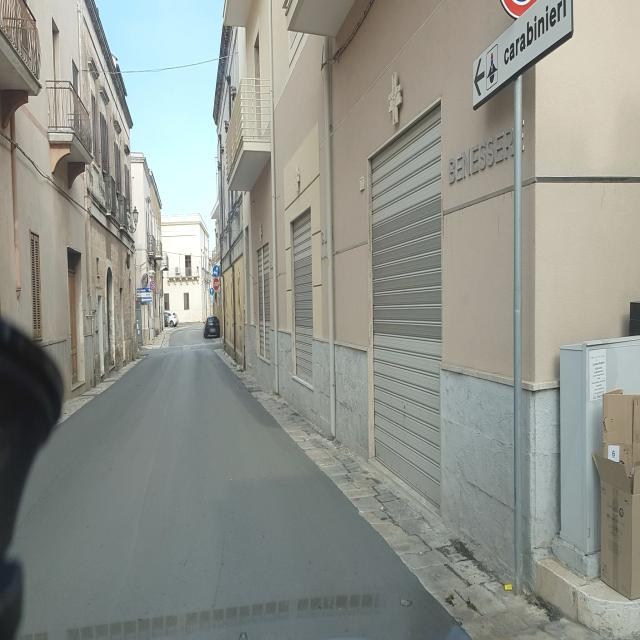car: (203, 314, 221, 338), (164, 308, 178, 327)
